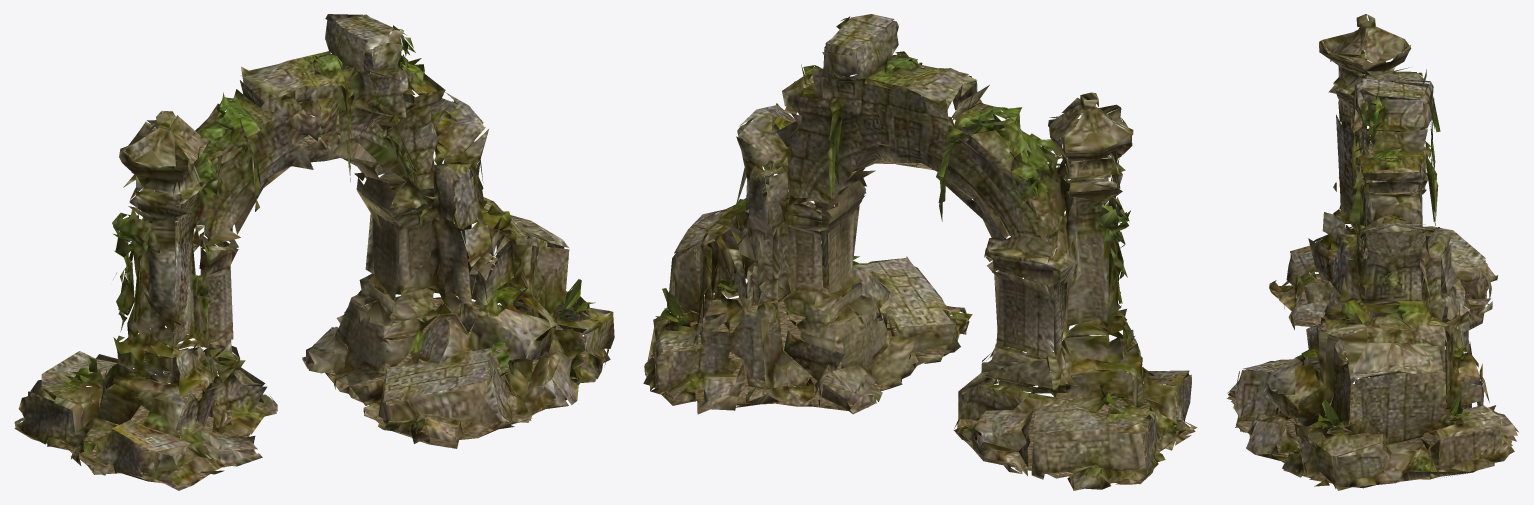
File: ruina_arco_lod1.glb
3 views of the same model, side by side, from view 1: azimuth 30°, elevation 25°; view 2: azimuth 150°, elevation 25°; view 3: azimuth 270°, elevation 25° (orthographic). The views are drawn at different scales.
Parts seen in each view (by area): view 1: ruina_arco; view 2: ruina_arco; view 3: ruina_arco.
Part boxes in pixels (box(x1,y1,x2,y2)): ruina_arco: box(14, 14, 614, 490); ruina_arco: box(643, 14, 1197, 490); ruina_arco: box(1226, 14, 1518, 490).
Bounding box in the file's own units: 6.99 × 4.51 × 3.78.
Materials: 1 (1 with a texture image).
